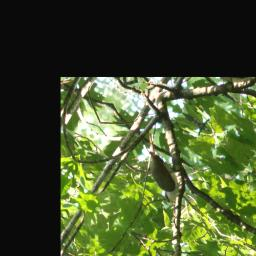Cuckoo: (122, 131, 201, 209)
